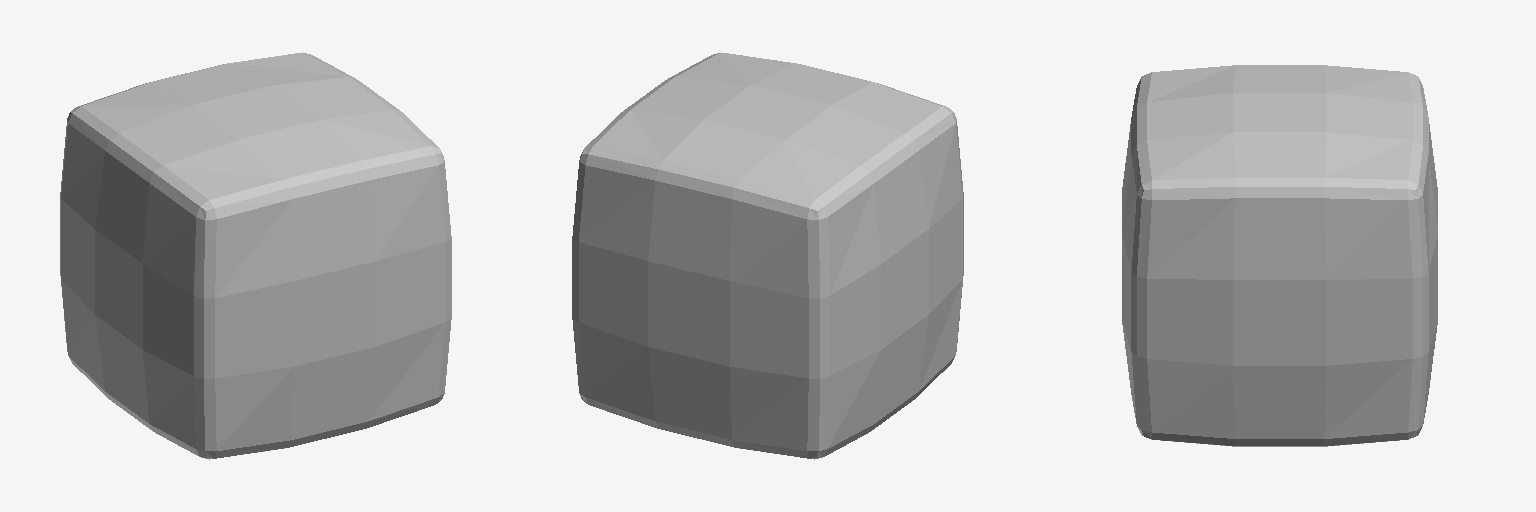
File: block.obj
3 views of the same model, side by side, from view 1: azimuth 30°, elevation 25°; view 2: azimuth 150°, elevation 25°; view 3: azimuth 270°, elevation 25° (orthographic).
Parts seen in each view (by area): view 1: Cube_meshId0_name; view 2: Cube_meshId0_name; view 3: Cube_meshId0_name.
Boxes of the visible parts, <box> form: Cube_meshId0_name: <box>60,52,451,459</box>; Cube_meshId0_name: <box>572,52,963,459</box>; Cube_meshId0_name: <box>1122,65,1437,446</box>.
Bounding box in the file's own units: 200 × 200 × 200.